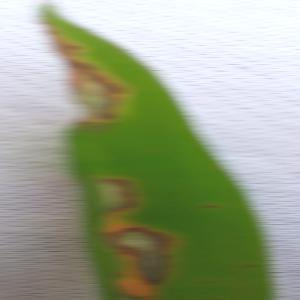1 RiceBlast: (98, 224, 176, 286), (92, 154, 147, 221)
